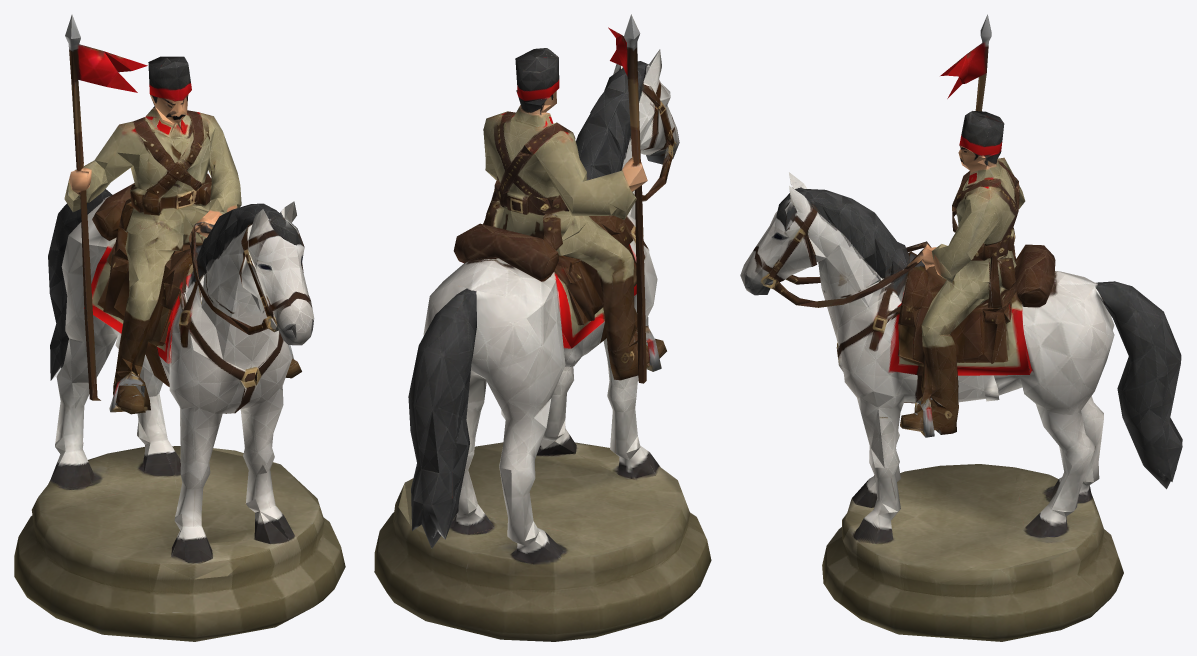
File: ottoman_knight.glb
3 views of the same model, side by side, from view 1: azimuth 30°, elevation 25°; view 2: azimuth 150°, elevation 25°; view 3: azimuth 270°, elevation 25° (orthographic). The views are drawn at different scales.
Bounding box in the file's own units: 1.03 × 2 × 1.53.
1 material, 1 textured.
